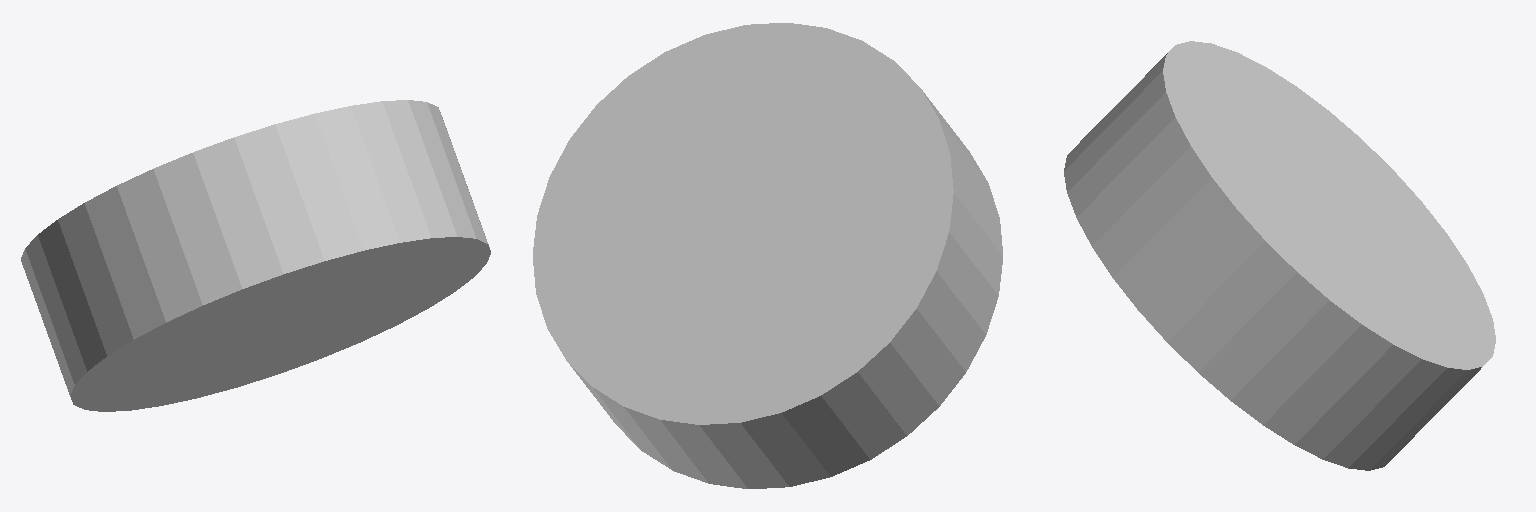
File: HeadBody2.obj
The picture shows the model from 3 angles: view 1: azimuth 30°, elevation 25°; view 2: azimuth 150°, elevation 25°; view 3: azimuth 270°, elevation 25°; orthographic projection.
Parts seen in each view (by area): view 1: LightButton_Cylinder.029; view 2: LightButton_Cylinder.029; view 3: LightButton_Cylinder.029.
Part boxes in pixels (x1,y1,x2,y2): LightButton_Cylinder.029: (21,100,490,411); LightButton_Cylinder.029: (533,23,1002,488); LightButton_Cylinder.029: (1064,41,1495,470).
Bounding box in the file's own units: 0.06 × 0.0549 × 0.0581.